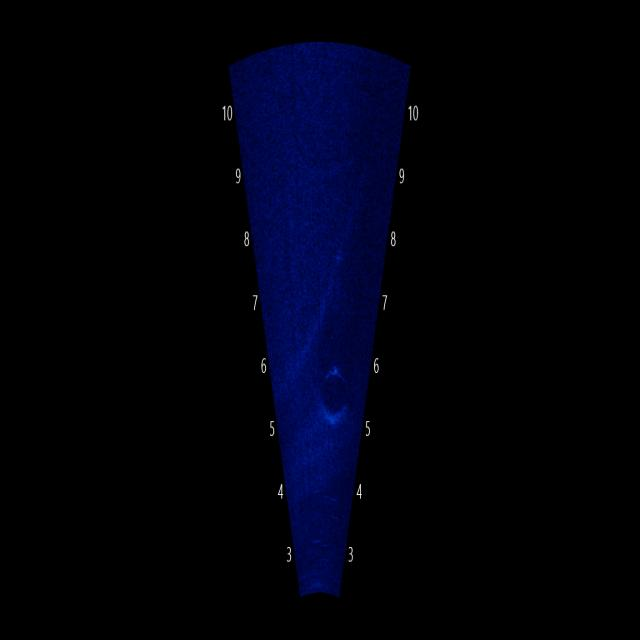circle: (310, 348, 358, 438)
